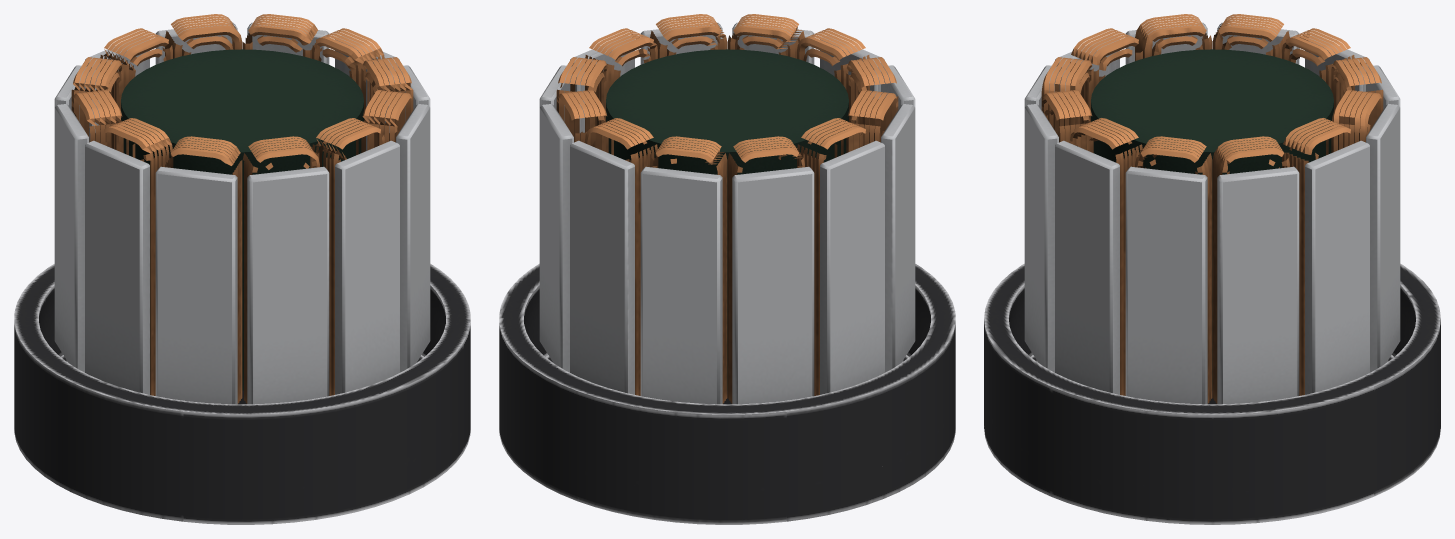
The model's file is motor_2216_stator_visual.glb.
3 views of the same model, side by side, from view 1: azimuth 30°, elevation 25°; view 2: azimuth 150°, elevation 25°; view 3: azimuth 270°, elevation 25° (orthographic).
Visible parts, largest first — view 1: motor_2216_stator; view 2: motor_2216_stator; view 3: motor_2216_stator.
Boxes of the visible parts, left/top/right/bottom form: motor_2216_stator: left=14, top=14, right=470, bottom=524; motor_2216_stator: left=499, top=14, right=955, bottom=524; motor_2216_stator: left=984, top=14, right=1440, bottom=524.
Bounding box in the file's own units: 0.0278 × 0.0232 × 0.0278.
Materials: 4 (4 with a texture image).
